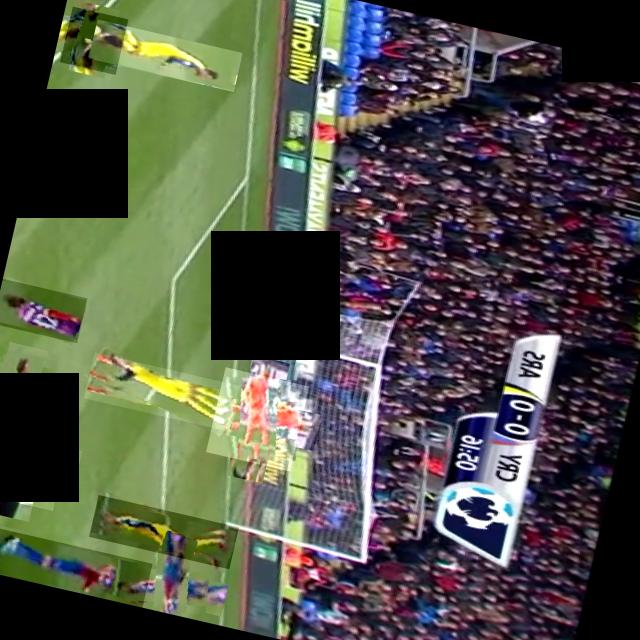goalkeeper: (205, 366, 308, 471)
referee: (0, 408, 70, 510)
soccer-player: (82, 352, 238, 431), (0, 527, 151, 607), (88, 494, 238, 568), (87, 19, 241, 91), (128, 542, 215, 620), (0, 278, 86, 342), (58, 6, 126, 74), (0, 346, 57, 424)
